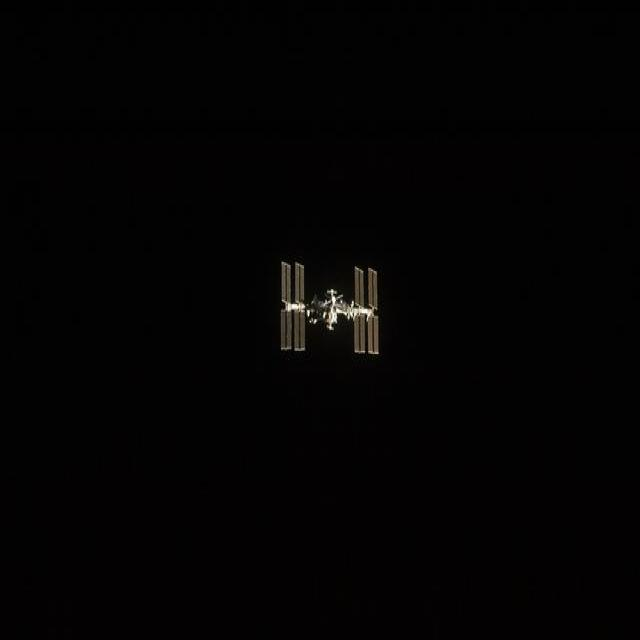medium_debris: (281, 263, 379, 353)
